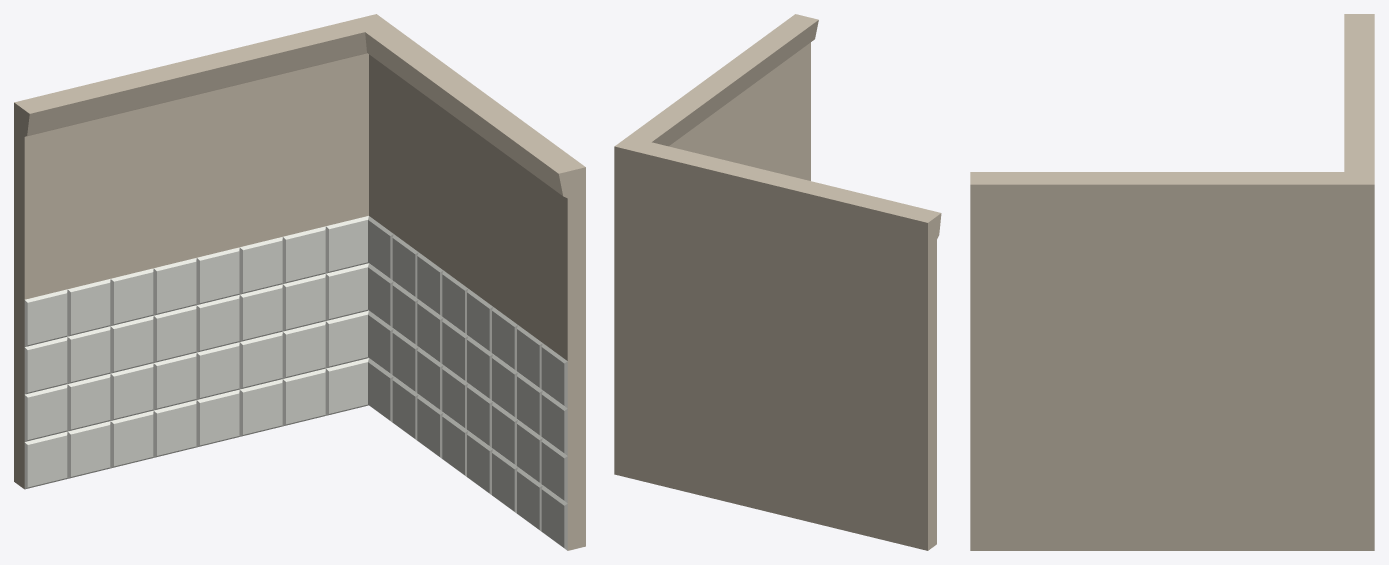
File: Wal_3_14.fbx
The picture shows the model from 3 angles, left to right: view 1: azimuth 30°, elevation 25°; view 2: azimuth 150°, elevation 25°; view 3: azimuth 270°, elevation 25°; orthographic projection. The views are drawn at different scales.
Visible parts, largest first — view 1: polySurface2307; view 2: polySurface2307; view 3: polySurface2307.
Part boxes in pixels (x1,y1,x2,y2): polySurface2307: (14, 14, 585, 550); polySurface2307: (614, 14, 941, 550); polySurface2307: (970, 14, 1374, 550).
Bounding box in the file's own units: 4 × 4 × 4.
Materials: 1 (1 with a texture image).
